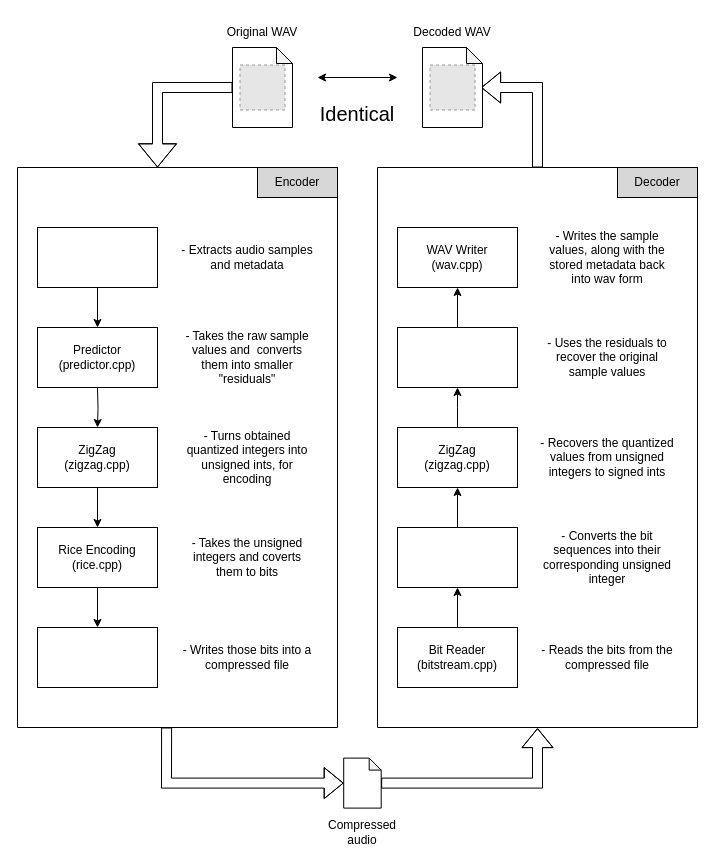
Some shapes in this 715 by 864 pixel diagram are drawn without their labels. Grey dashed boxes stand in for pictures. Here are the shapes that lost their labels. From the top down, the centre of each, then its label:
At pixel 97 257: "WAV Reader (wav .cpp)".
At pixel 457 357: "Reconstructor (predictor.cpp)".
At pixel 457 557: "Rice Decoding (rice .cpp)".
At pixel 97 657: "Bit Writer (bitstream.cpp)".
